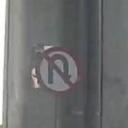NoVirarU: (34, 44, 84, 94)
